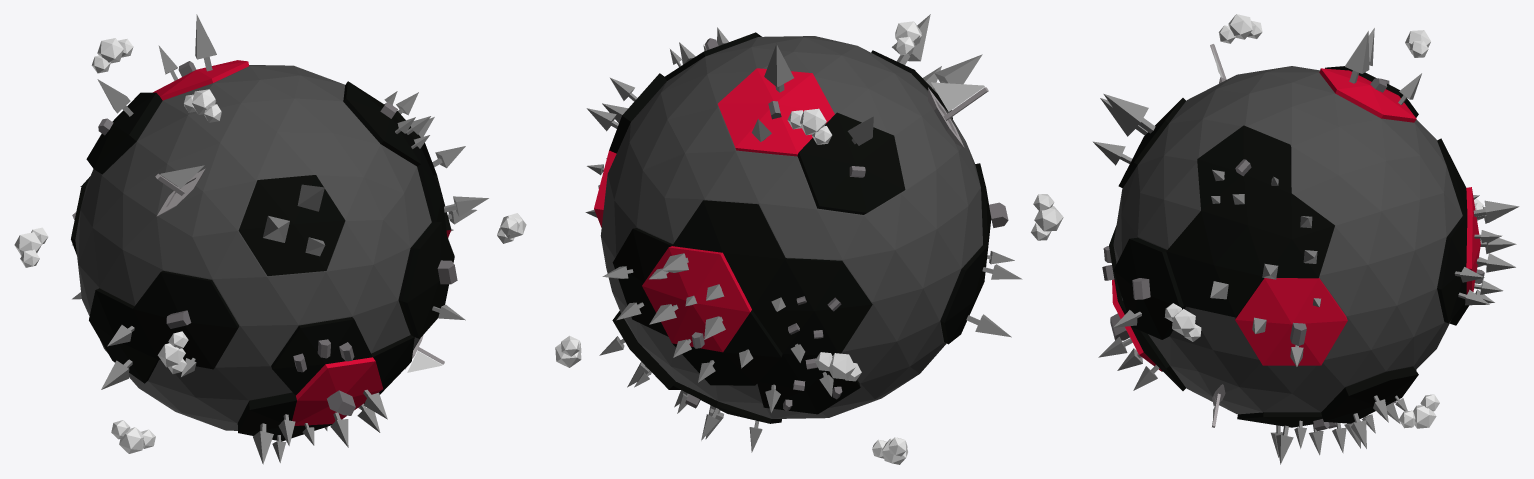
File: B&WPlanet.glb
3 renders of one model, left to right at view 1: azimuth 30°, elevation 25°; view 2: azimuth 150°, elevation 25°; view 3: azimuth 270°, elevation 25°, orthographic. The views are drawn at different scales.
Visible parts, largest first — view 1: Icosphere.001, Icosphere, Plane.081, Icosphere.003, Icosphere.006, Icosphere.008, Icosphere.005, Icosphere.004, Plane.048, Icosphere.007, Plane.080, Plane.037 (+2 smaller); view 2: Icosphere.001, Icosphere, Plane.081, Icosphere.006, Icosphere.008, Icosphere.005, Icosphere.003, Plane.048, Icosphere.004, Plane.036, Icosphere.002, Plane.037; view 3: Icosphere.001, Icosphere, Plane.037, Icosphere.002, Icosphere.004, Icosphere.007, Plane.048, Icosphere.006, Plane.021, Plane.035.
Part boxes in pixels (bbox=[...]): Icosphere.001: bbox=[75, 65, 431, 430]; Icosphere: bbox=[71, 60, 454, 441]; Plane.081: bbox=[155, 165, 205, 216]; Icosphere.003: bbox=[111, 420, 155, 453]; Icosphere.006: bbox=[91, 38, 133, 73]; Icosphere.008: bbox=[157, 331, 188, 373]; Icosphere.005: bbox=[14, 227, 48, 267]; Icosphere.004: bbox=[184, 89, 221, 122]; Plane.048: bbox=[195, 14, 216, 71]; Icosphere.007: bbox=[497, 213, 526, 243]; Plane.080: bbox=[405, 335, 444, 372]; Plane.037: bbox=[297, 184, 324, 211]; Icosphere.001: bbox=[600, 36, 982, 418]; Icosphere: bbox=[594, 32, 991, 423]; Plane.081: bbox=[928, 82, 988, 147]; Icosphere.006: bbox=[787, 108, 832, 144]; Icosphere.008: bbox=[1031, 194, 1063, 240]; Icosphere.005: bbox=[815, 352, 861, 381]; Icosphere.003: bbox=[872, 437, 907, 464]; Plane.048: bbox=[764, 44, 793, 92]; Icosphere.004: bbox=[895, 21, 921, 55]; Plane.036: bbox=[933, 54, 982, 93]; Icosphere.002: bbox=[555, 335, 581, 367]; Plane.037: bbox=[892, 14, 930, 64]; Icosphere.001: bbox=[1113, 66, 1462, 414]; Icosphere: bbox=[1109, 66, 1480, 427]; Plane.037: bbox=[1103, 93, 1155, 133]; Icosphere.002: bbox=[1398, 394, 1439, 428]; Icosphere.004: bbox=[1218, 14, 1262, 43]; Icosphere.007: bbox=[1164, 303, 1201, 341]; Plane.048: bbox=[1344, 31, 1369, 83]; Icosphere.006: bbox=[1405, 30, 1430, 57]; Plane.021: bbox=[1473, 200, 1519, 222]; Plane.035: bbox=[1093, 141, 1132, 165].
Bounding box in the file's own units: 2.55 × 2.49 × 2.49.
